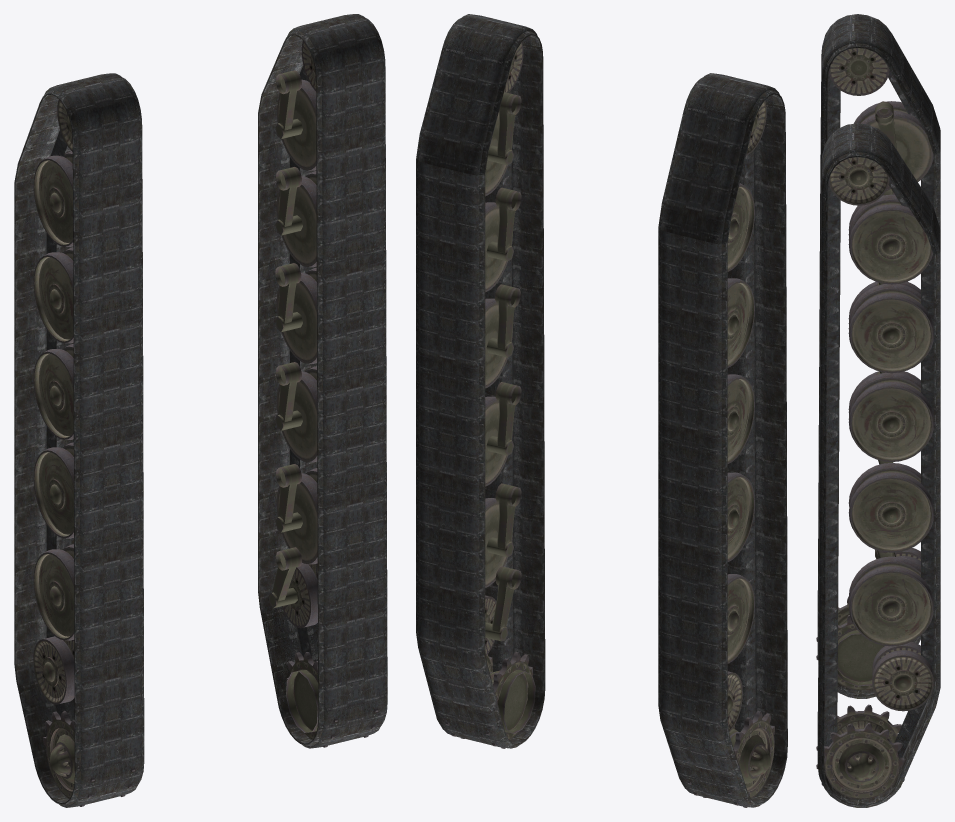
Rendered from Chassis.glb.
3 views of the same model, side by side, from view 1: azimuth 30°, elevation 25°; view 2: azimuth 150°, elevation 25°; view 3: azimuth 270°, elevation 25° (orthographic). The views are drawn at different scales.
Parts seen in each view (by area): view 1: set_3_group_0, set_2_group_0, set_0_group_0, set_1_group_0; view 2: set_3_group_0, set_2_group_0, set_0_group_0, set_1_group_0; view 3: set_0_group_0, set_2_group_0, set_1_group_0, set_3_group_0.
Boxes of the visible parts, box(x1,y1,x2,y2) form: set_3_group_0: box(14, 73, 144, 807); set_2_group_0: box(258, 14, 387, 748); set_0_group_0: box(268, 41, 378, 747); set_1_group_0: box(33, 99, 134, 806); set_3_group_0: box(658, 73, 787, 807); set_2_group_0: box(416, 14, 545, 748); set_0_group_0: box(445, 42, 535, 748); set_1_group_0: box(687, 100, 774, 807); set_0_group_0: box(816, 157, 933, 799); set_2_group_0: box(817, 123, 940, 807); set_1_group_0: box(816, 48, 933, 690); set_3_group_0: box(817, 14, 940, 698).
Bounding box in the file's own units: 2.99 × 6.49 × 1.1.
Materials: 4 (4 with a texture image).
